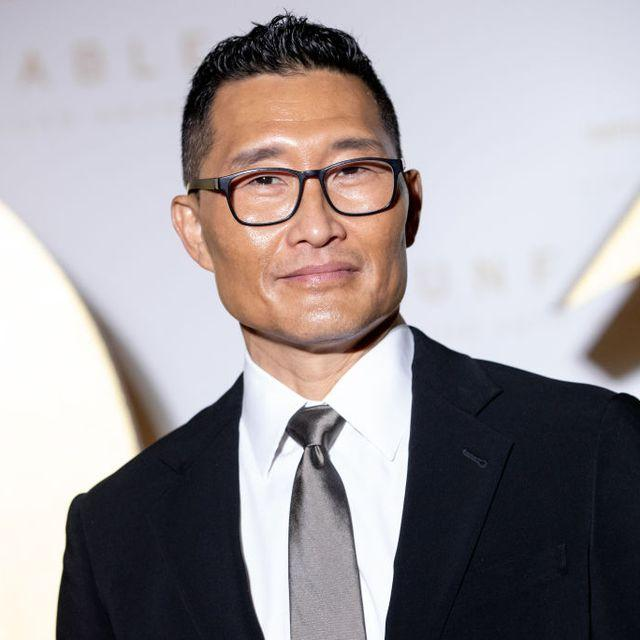no_helmet: (159, 6, 434, 368)
